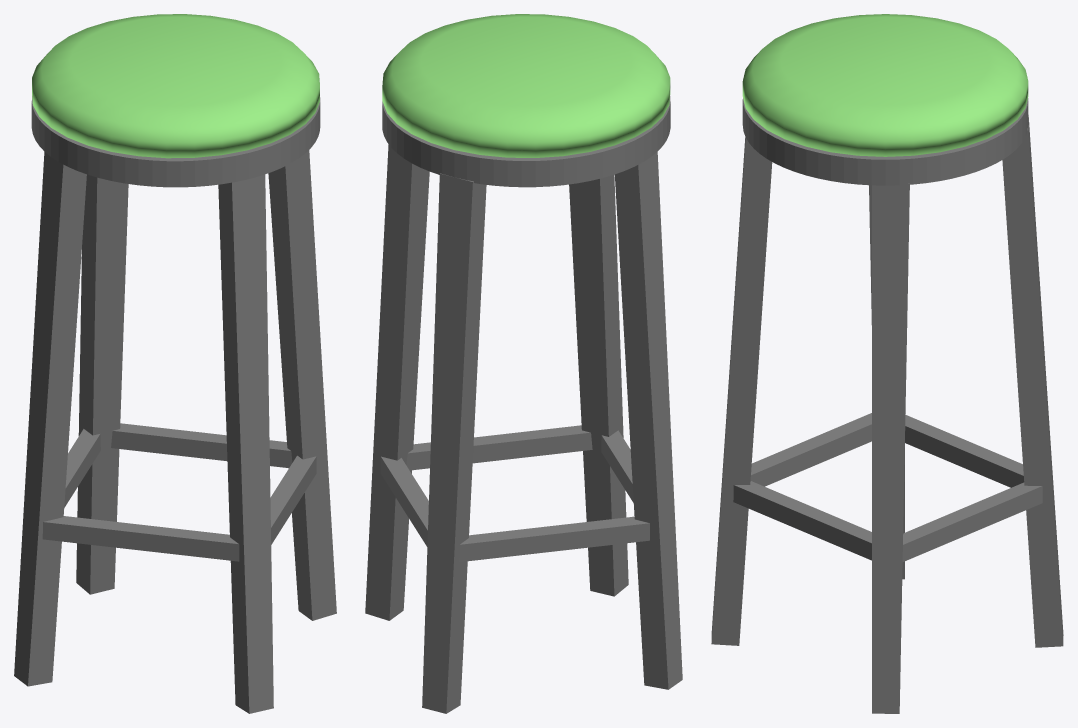
The model's file is Barstool.fbx.
The picture shows the model from 3 angles, left to right: view 1: azimuth 30°, elevation 25°; view 2: azimuth 150°, elevation 25°; view 3: azimuth 270°, elevation 25°; orthographic projection.
Parts seen in each view (by area): view 1: Cube.001, Cylinder, Cylinder.001; view 2: Cube.001, Cylinder, Cylinder.001; view 3: Cube.001, Cylinder, Cylinder.001.
Boxes of the visible parts, bbox=[...] form: Cube.001: bbox=[14, 150, 336, 713]; Cylinder: bbox=[32, 14, 319, 158]; Cylinder.001: bbox=[31, 96, 320, 187]; Cube.001: bbox=[365, 144, 682, 713]; Cylinder: bbox=[382, 14, 670, 157]; Cylinder.001: bbox=[382, 96, 670, 187]; Cube.001: bbox=[711, 115, 1063, 713]; Cylinder: bbox=[742, 14, 1028, 156]; Cylinder.001: bbox=[742, 98, 1028, 185].
Size of the model in its own units: 36.78 by 67.21 by 36.98.
